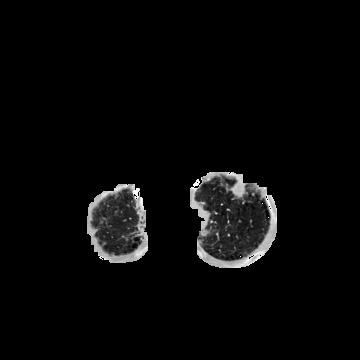PN: (230, 182, 246, 198)
